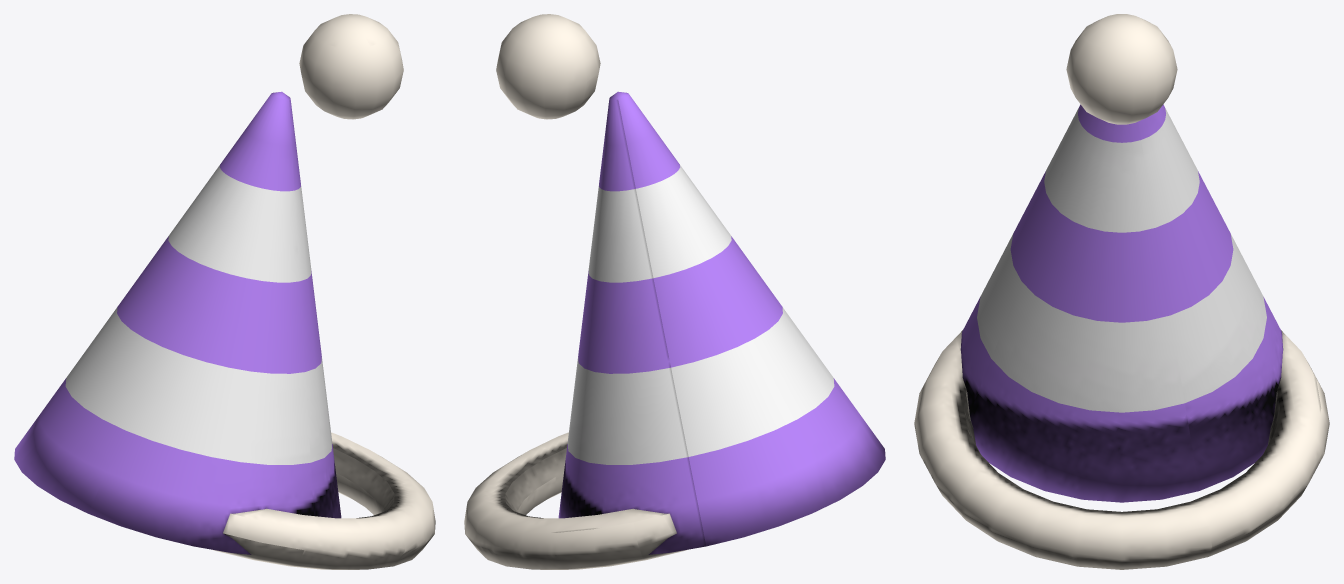
The model's file is hat_party.glb.
3 renders of one model, left to right at view 1: azimuth 30°, elevation 25°; view 2: azimuth 150°, elevation 25°; view 3: azimuth 270°, elevation 25°, orthographic. The views are drawn at different scales.
Visible parts, largest first — view 1: hat_party; view 2: hat_party; view 3: hat_party.
Part boxes in pixels (x1=…): hat_party: x1=14, y1=14, x2=435, y2=569; hat_party: x1=464, y1=14, x2=885, y2=569; hat_party: x1=914, y1=14, x2=1329, y2=569.
Bounding box in the file's own units: 0.3414 × 0.4416 × 0.314.
3 materials, 3 textured.
